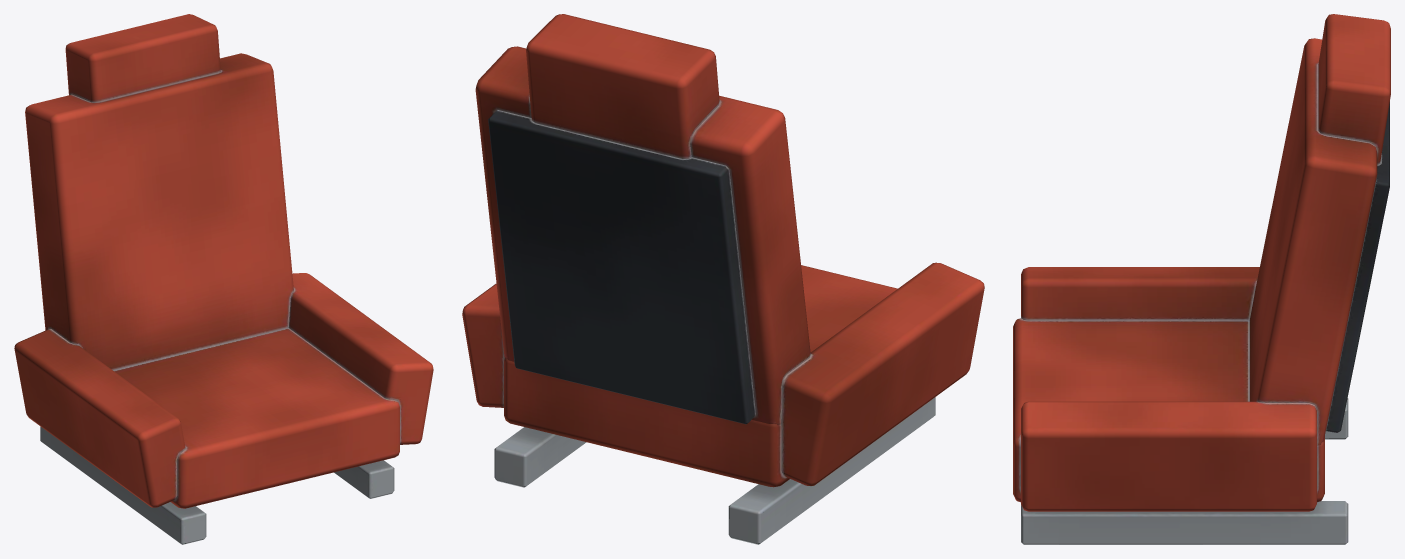
The model's file is seat-v001.glb.
3 renders of one model, left to right at view 1: azimuth 30°, elevation 25°; view 2: azimuth 150°, elevation 25°; view 3: azimuth 270°, elevation 25°, orthographic. The views are drawn at different scales.
Parts seen in each view (by area): view 1: Seat; view 2: Seat; view 3: Seat.
Boxes of the visible parts, x1=… form: Seat: x1=14, y1=14, x2=433, y2=544; Seat: x1=462, y1=14, x2=984, y2=544; Seat: x1=1013, y1=14, x2=1390, y2=544.
Bounding box in the file's own units: 0.5035 × 0.6214 × 0.4848.
1 material, 1 textured.
